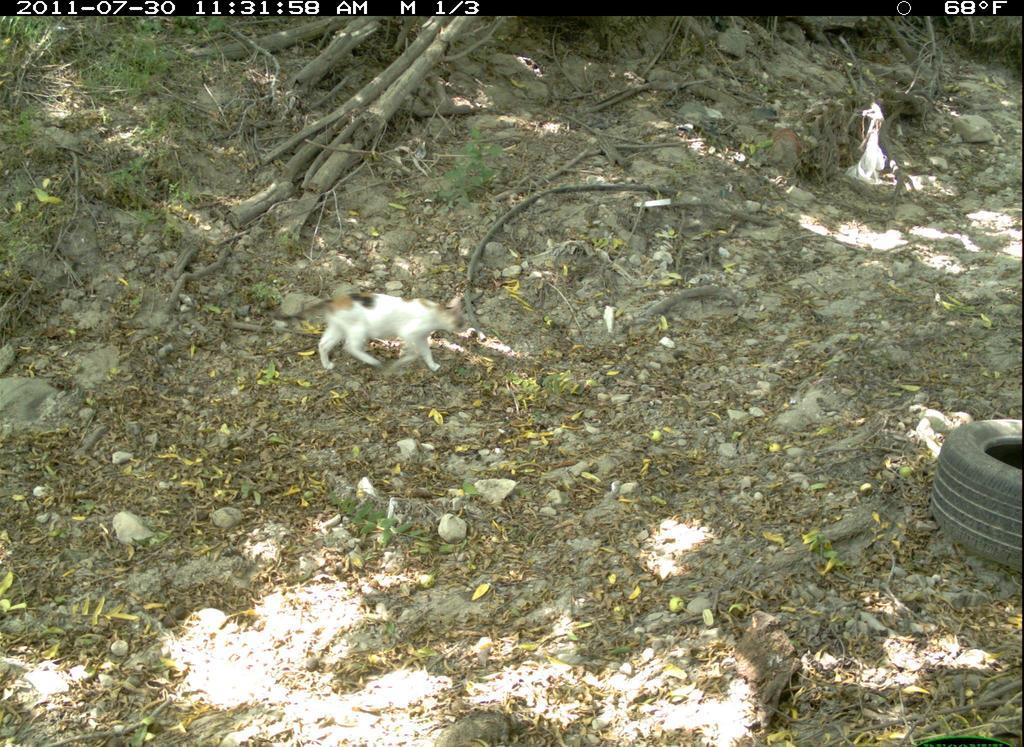cat: (250, 278, 483, 378)
